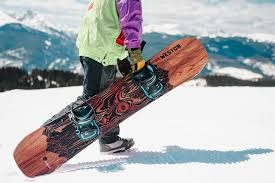snowboard: (11, 35, 206, 178)
